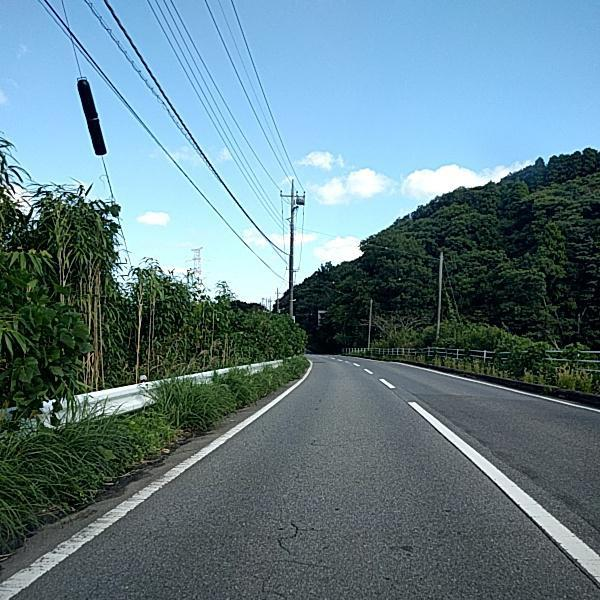D20: (242, 513, 333, 599)
